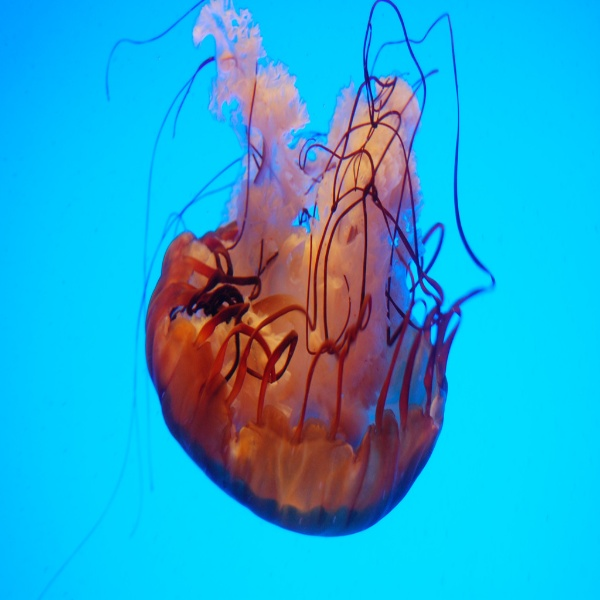Jellyfish: (38, 0, 497, 598)
